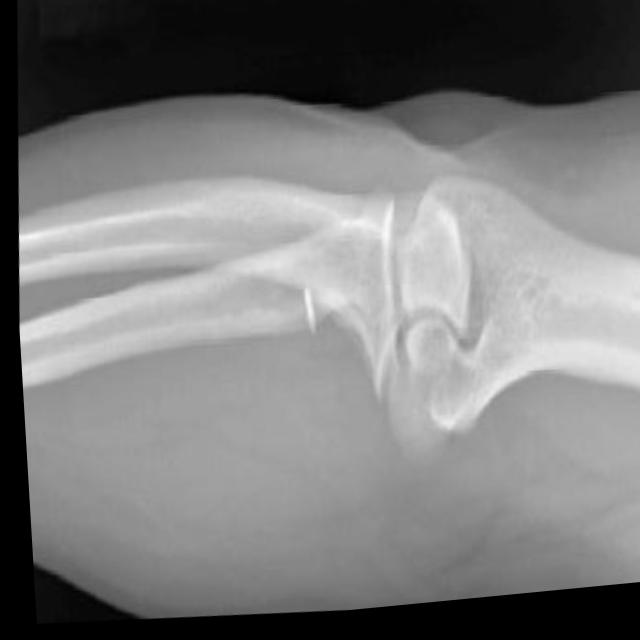fracture: (284, 271, 326, 354)
